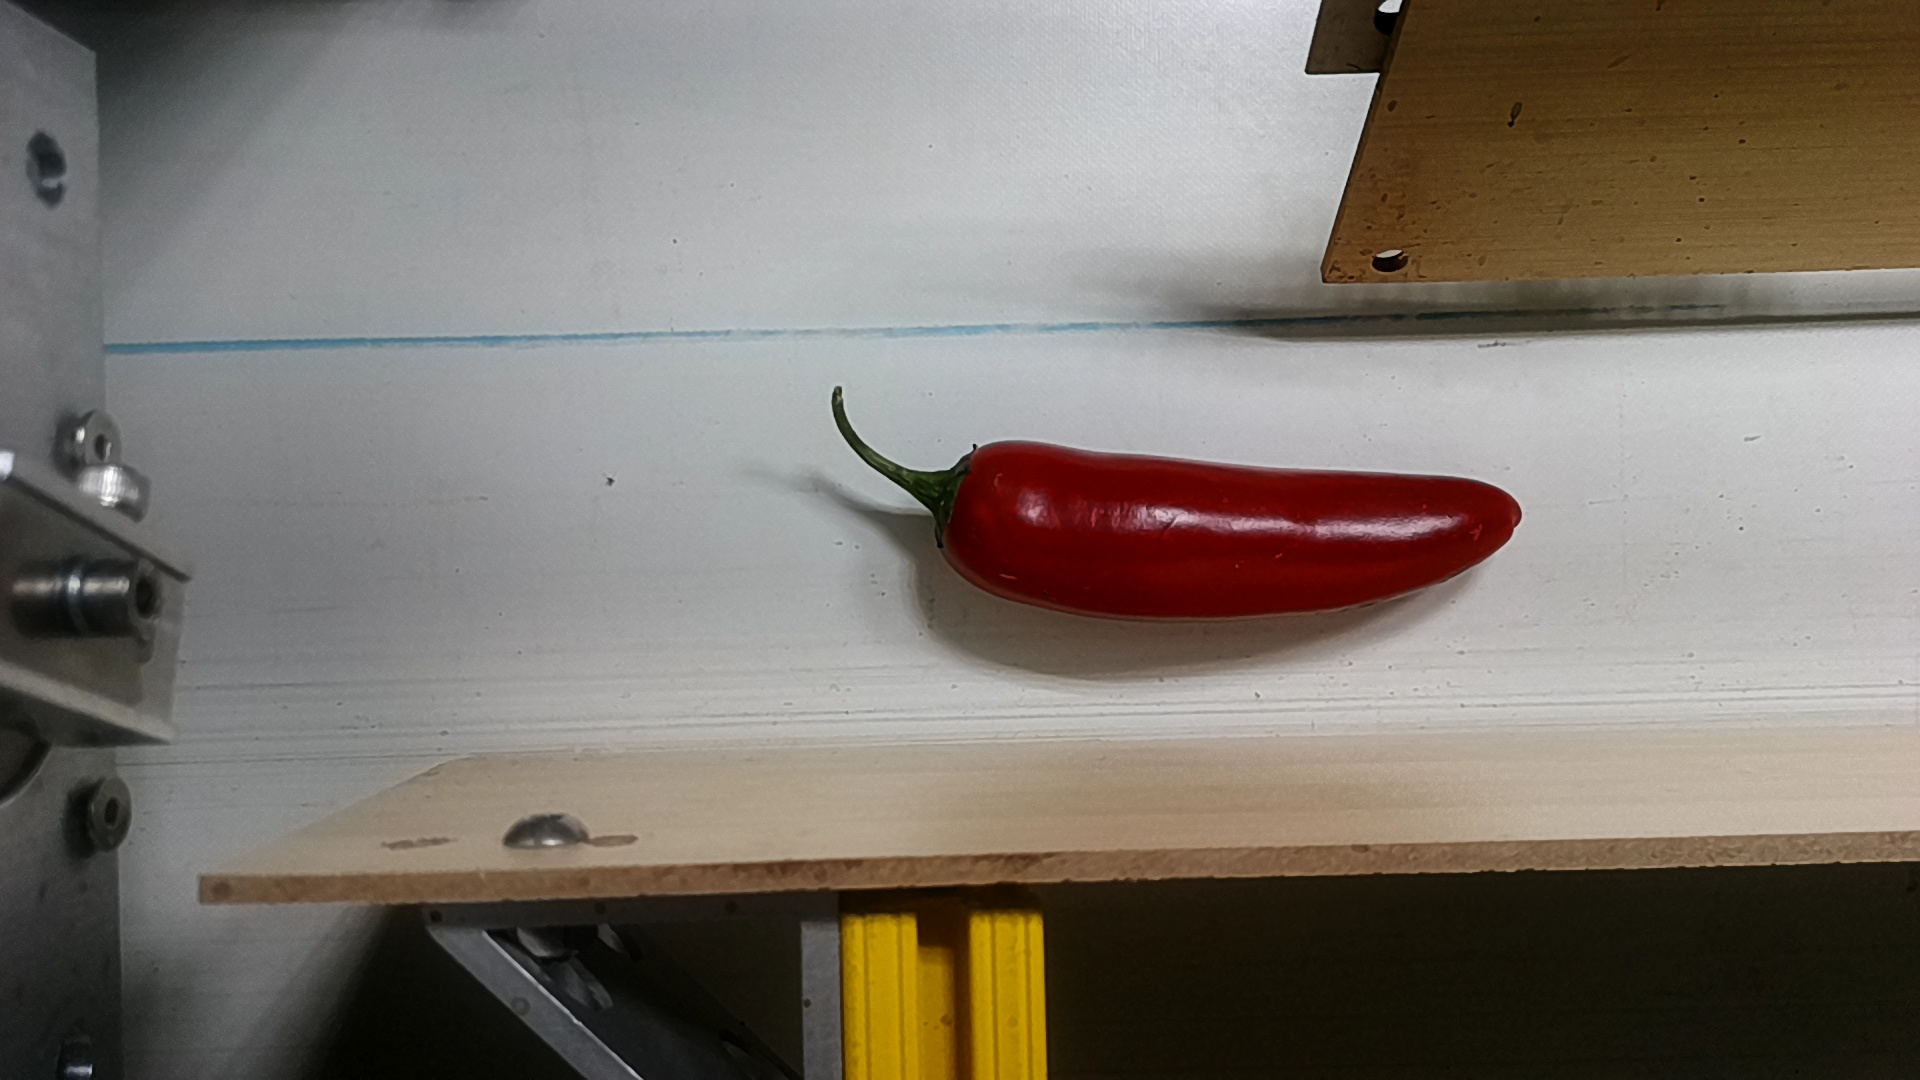Cut Point: (916, 430, 1014, 593)
